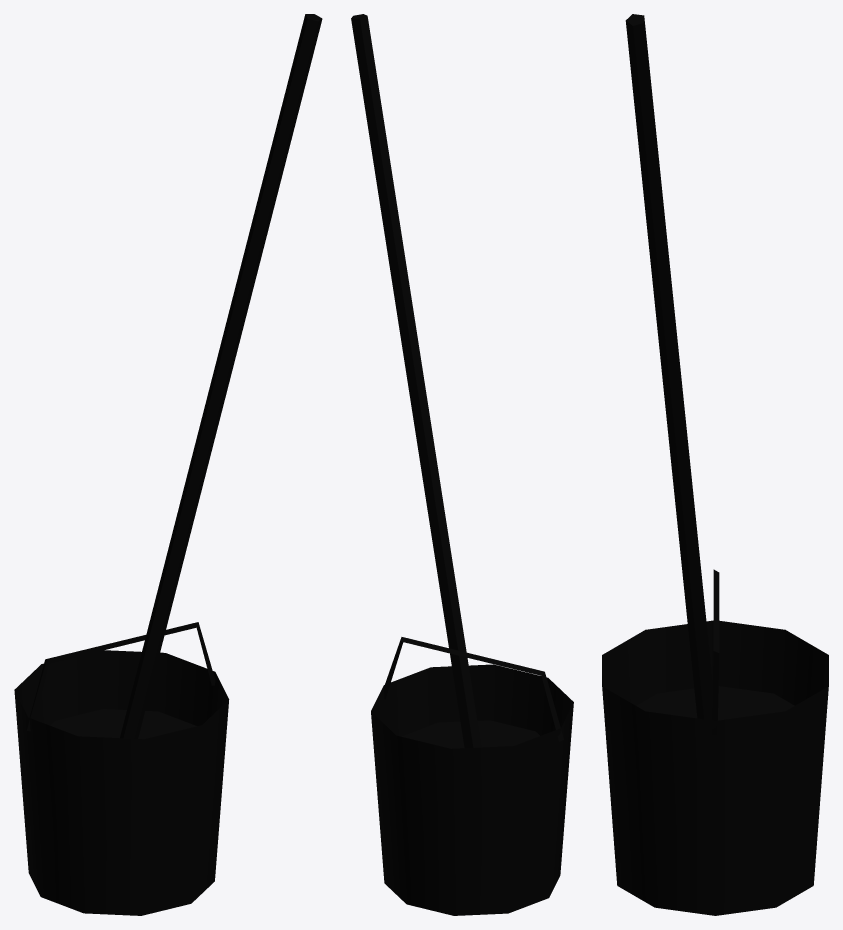
Rendered from SM_mop_bucket.fbx.
3 views of the same model, side by side, from view 1: azimuth 30°, elevation 25°; view 2: azimuth 150°, elevation 25°; view 3: azimuth 270°, elevation 25° (orthographic). The views are drawn at different scales.
Parts seen in each view (by area): view 1: mop_bucket; view 2: mop_bucket; view 3: mop_bucket.
Part boxes in pixels (x1,y1,x2,y2): mop_bucket: [14, 14, 322, 915]; mop_bucket: [351, 14, 573, 915]; mop_bucket: [602, 14, 828, 915].
Bounding box in the file's own units: 0.4162 × 1.3 × 0.2853.
